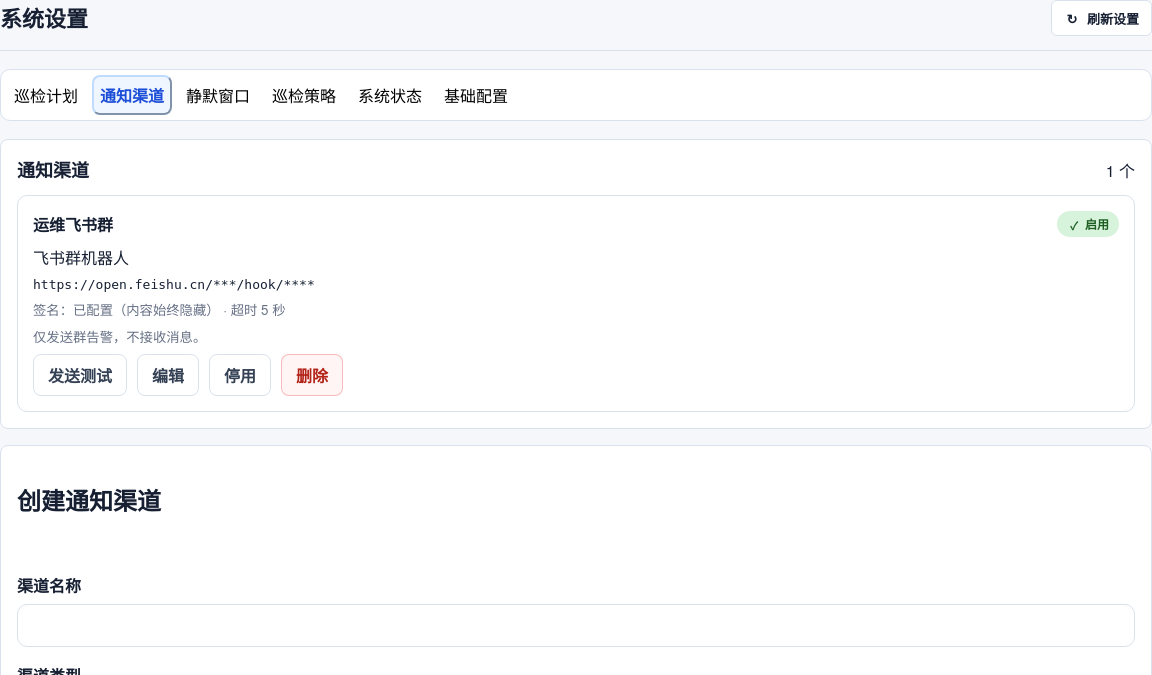
Test: SettingsPage › does not report pending or failed notification tests as succeeded
Click the button "发送测试" at x=80, y=375, box [33,354,127,396]
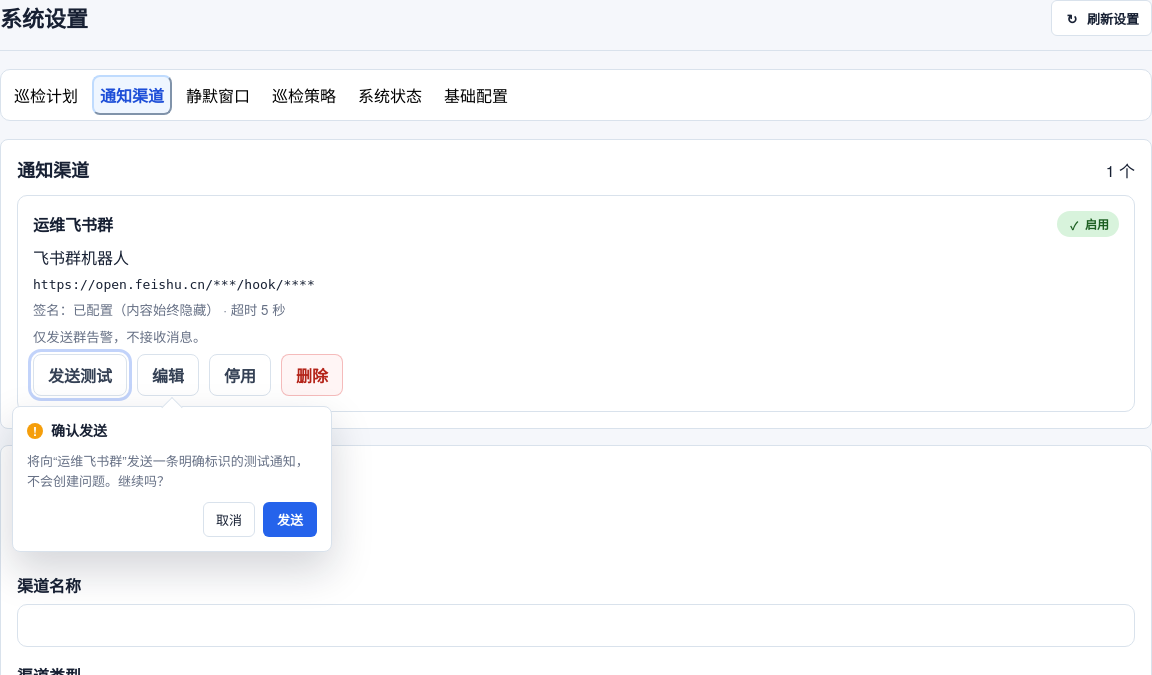
Click the button "发送" at x=290, y=520, box [263,502,317,537]
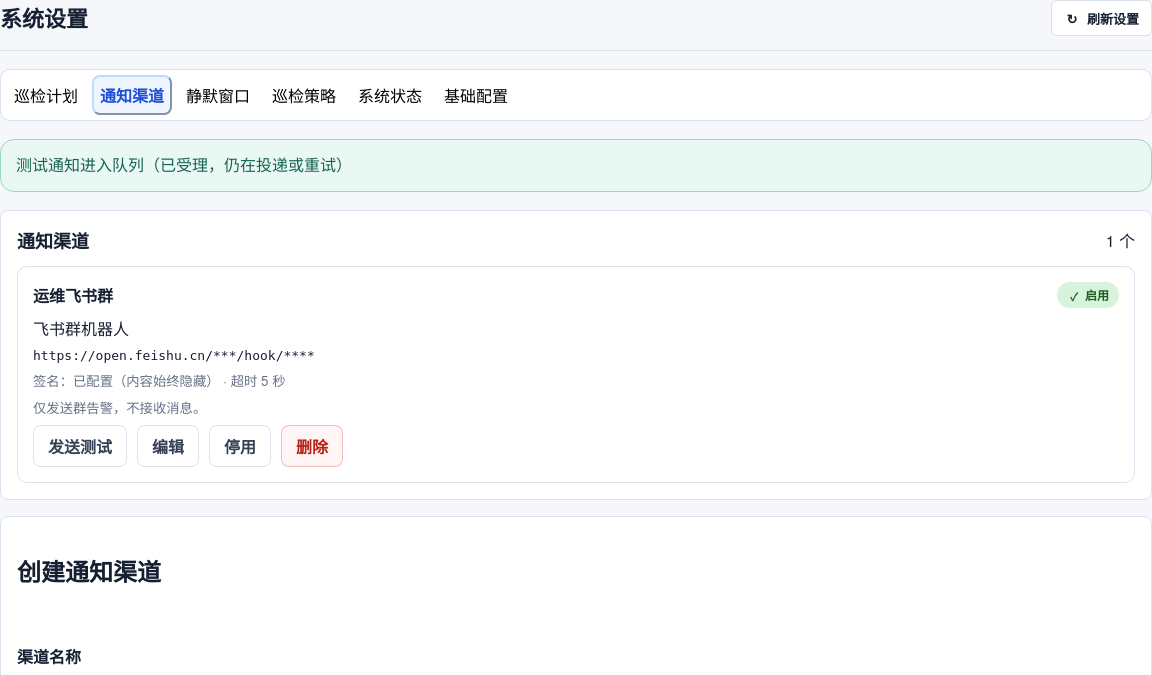
Expected: the text "测试通知进入队列（已受理，仍在投递或重试）" is shown, [0,139,1151,192]
Click the button "发送测试" at x=80, y=446, box [33,425,127,467]
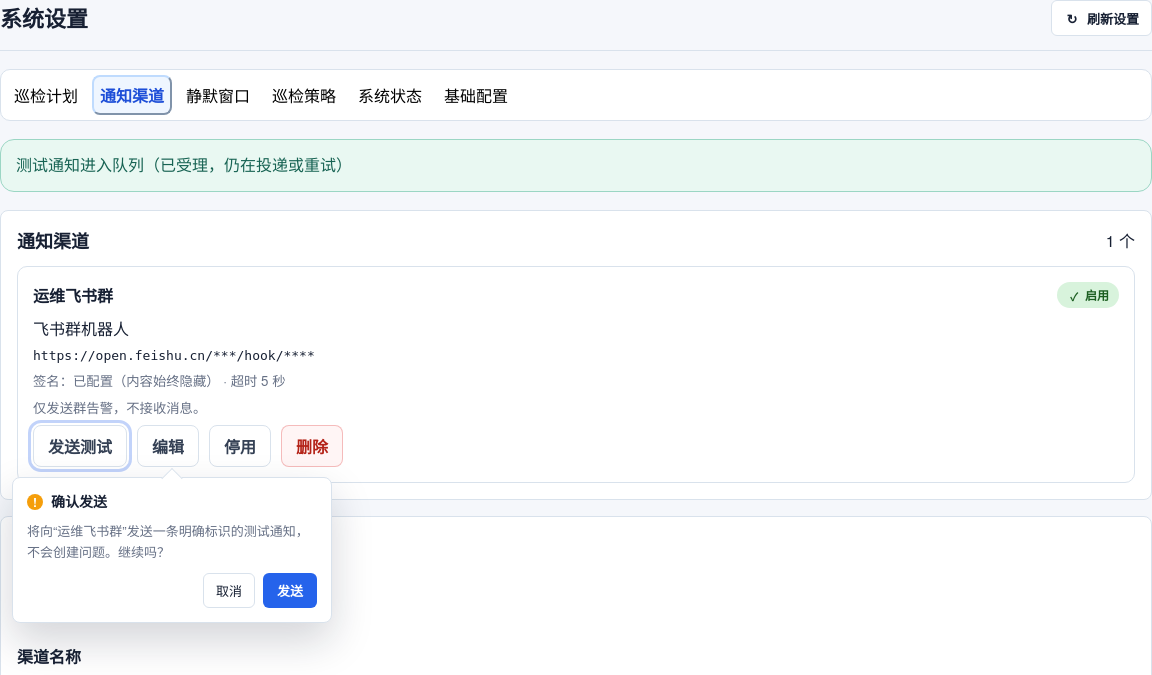
Click the button "发送" at x=290, y=590, box [263,573,317,608]
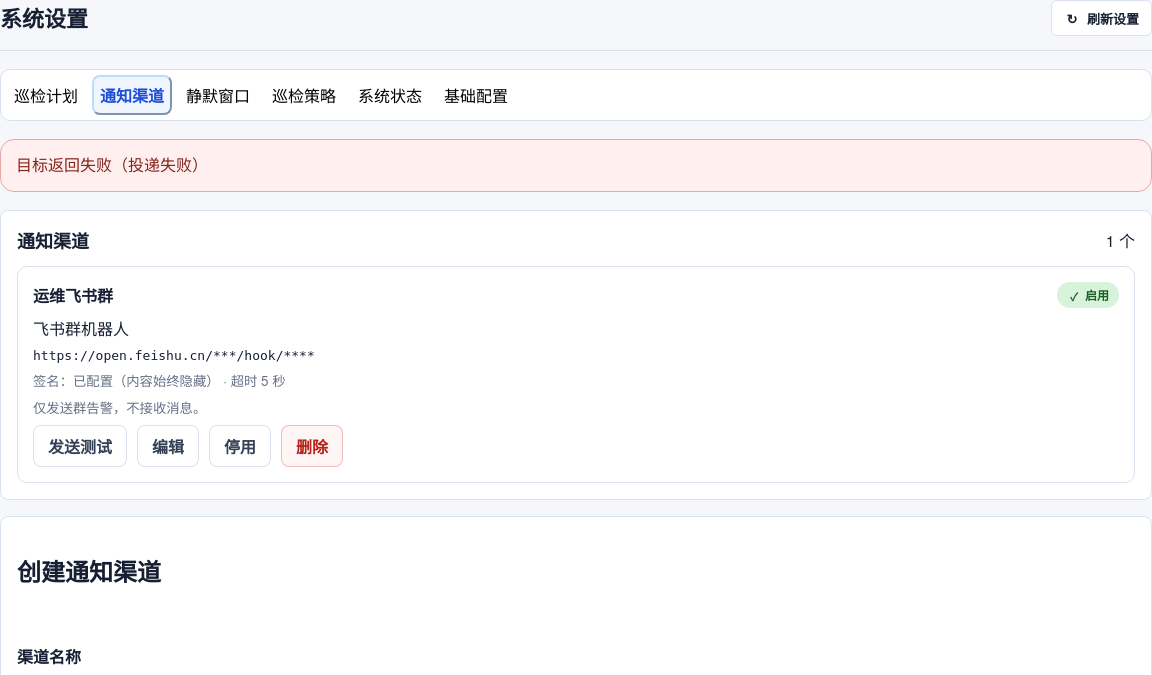
Expected: the message reads "目标返回失败（投递失败）", [16,153,208,176]
